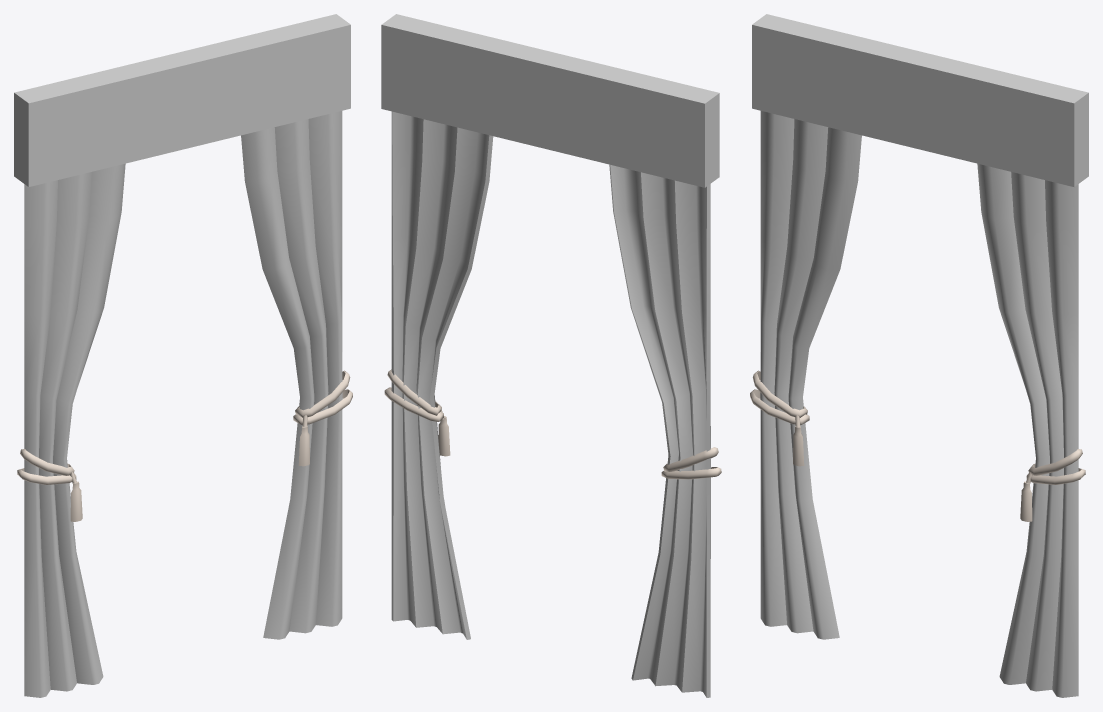
The model's file is curtain2_A.fbx.
3 views of the same model, side by side, from view 1: azimuth 30°, elevation 25°; view 2: azimuth 150°, elevation 25°; view 3: azimuth 330°, elevation 25° (orthographic).
Parts seen in each view (by area): view 1: polySurface10, polySurface1, polySurface7; view 2: polySurface10, polySurface1, polySurface7; view 3: polySurface10, polySurface1, polySurface7.
Part boxes in pixels (box(x1,y1,x2,y2)): polySurface10: box(24, 111, 342, 697); polySurface1: box(14, 14, 350, 186); polySurface7: box(17, 370, 352, 521); polySurface10: box(391, 111, 710, 697); polySurface1: box(381, 14, 719, 187); polySurface7: box(384, 369, 721, 479); polySurface10: box(760, 111, 1078, 697); polySurface1: box(752, 14, 1088, 186); polySurface7: box(750, 370, 1085, 521).
Bounding box in the file's own units: 126 × 218 × 11.38.
